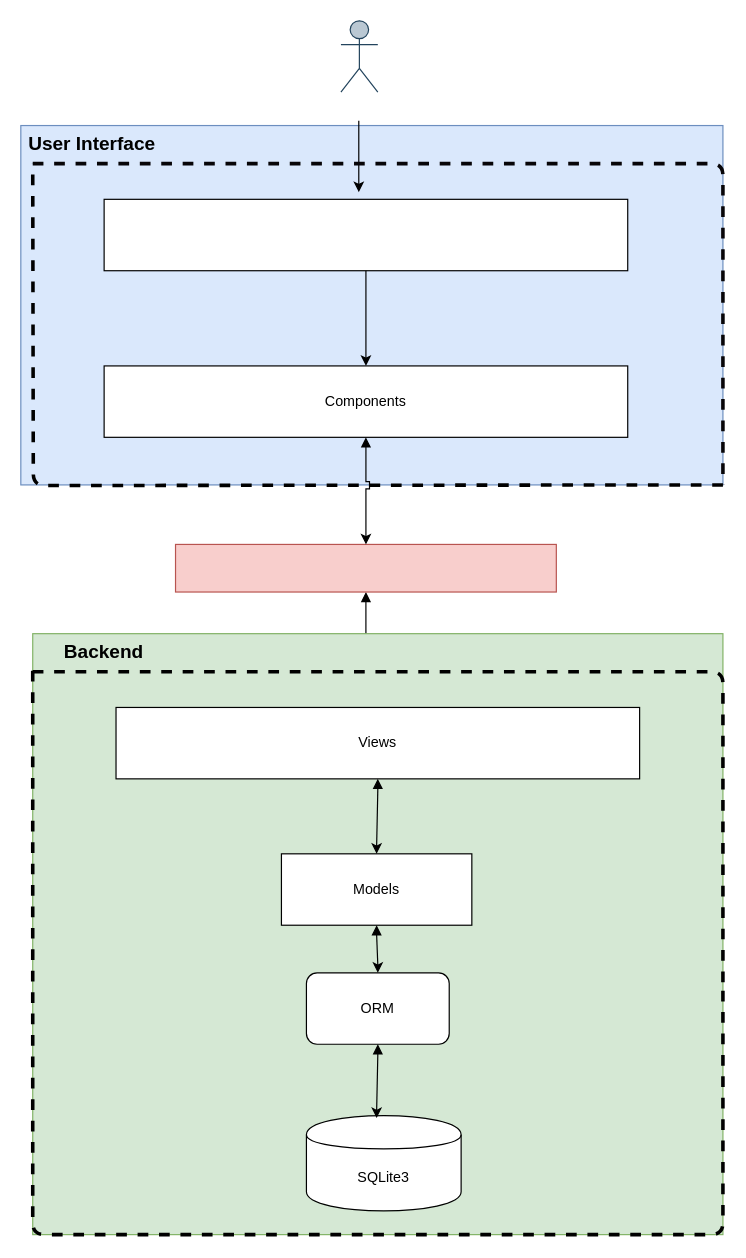
Some shapes in this 746 by 1258 pixel diagram are drawn without their labels. Here are the shapes that lost their labels. From the top down, the centre of each, then its label:
At (359,56): "User".
At (365,234): "Containers".
At (365,567): "APIs".
